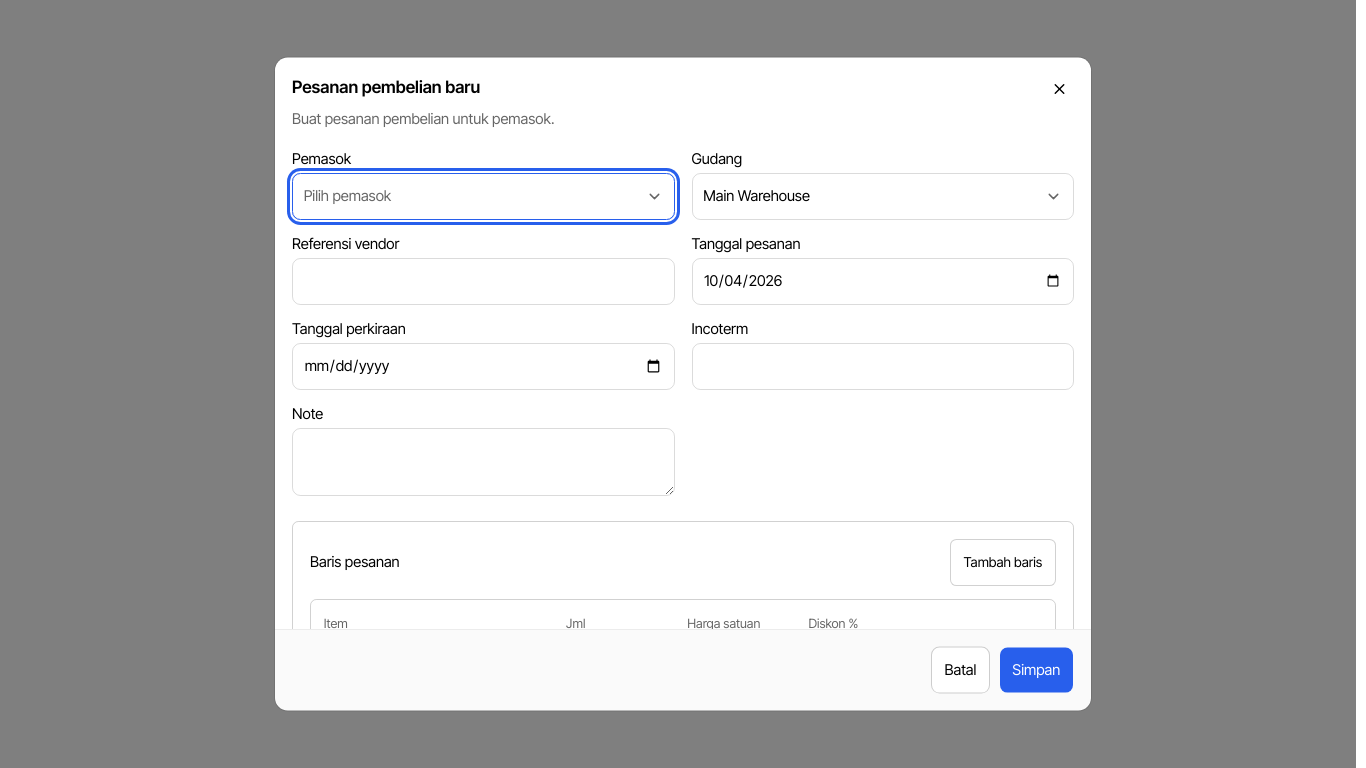
Test: PurchaseOrderFormDialog › requires a supplier before saving
The width and height of the screenshot is (1366, 768).
What coordinates should you click on to do the following:
click the button "Simpan"
I would click on:
 (1036, 670)
Its box is [999, 647, 1074, 693].
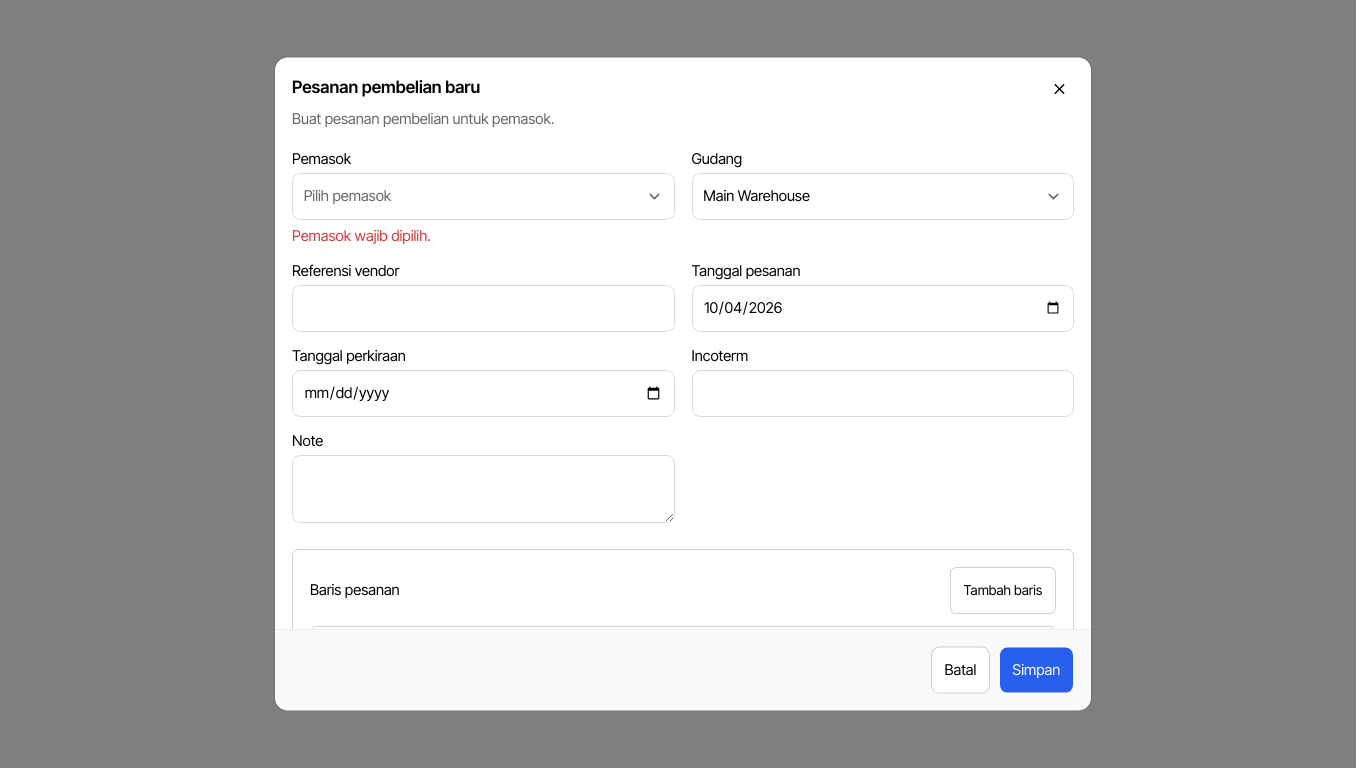
Expected: the text "Pemasok wajib dipilih." is shown, [292, 226, 431, 244]
